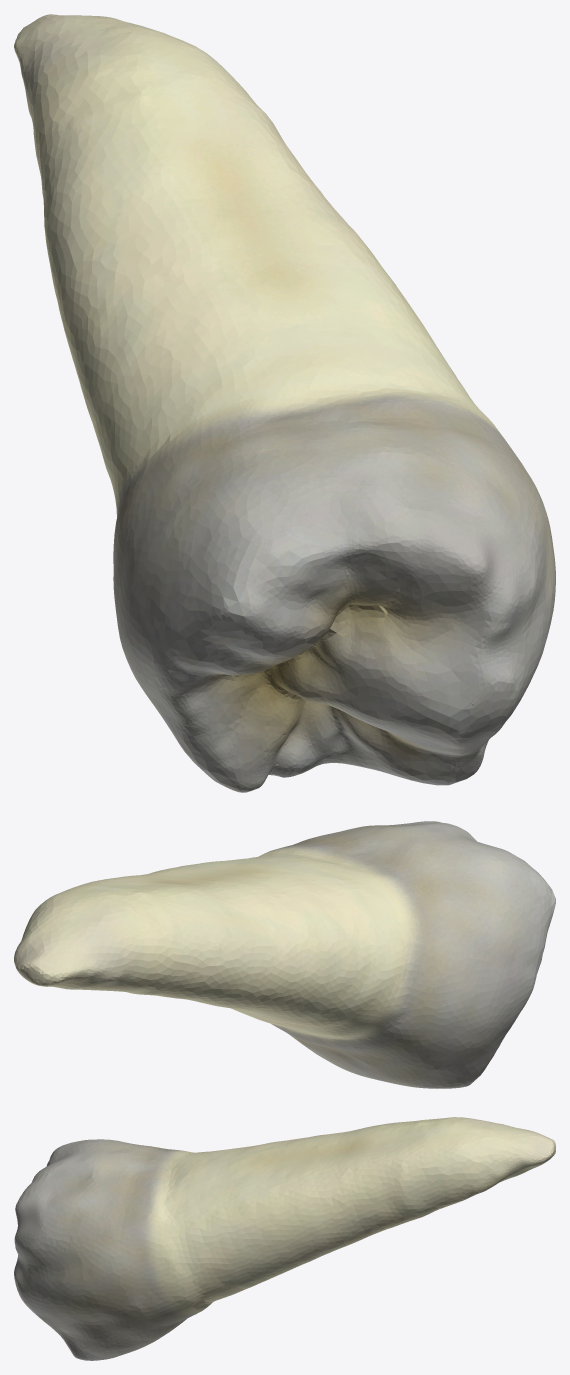
File: 45 - segundo premolar inferior direito.glb
3 views of the same model, one above another, from view 1: azimuth 30°, elevation 25°; view 2: azimuth 150°, elevation 25°; view 3: azimuth 270°, elevation 25° (orthographic). The views are drawn at different scales.
Parts seen in each view (by area): view 1: 3MFMeshParent_0; view 2: 3MFMeshParent_0; view 3: 3MFMeshParent_0.
Boxes of the visible parts, bbox=[...] form: 3MFMeshParent_0: bbox=[14, 14, 555, 792]; 3MFMeshParent_0: bbox=[14, 821, 555, 1088]; 3MFMeshParent_0: bbox=[14, 1117, 555, 1360].
Bounding box in the file's own units: 0.2341 × 0.2556 × 0.512.
Materials: 1 (1 with a texture image).
